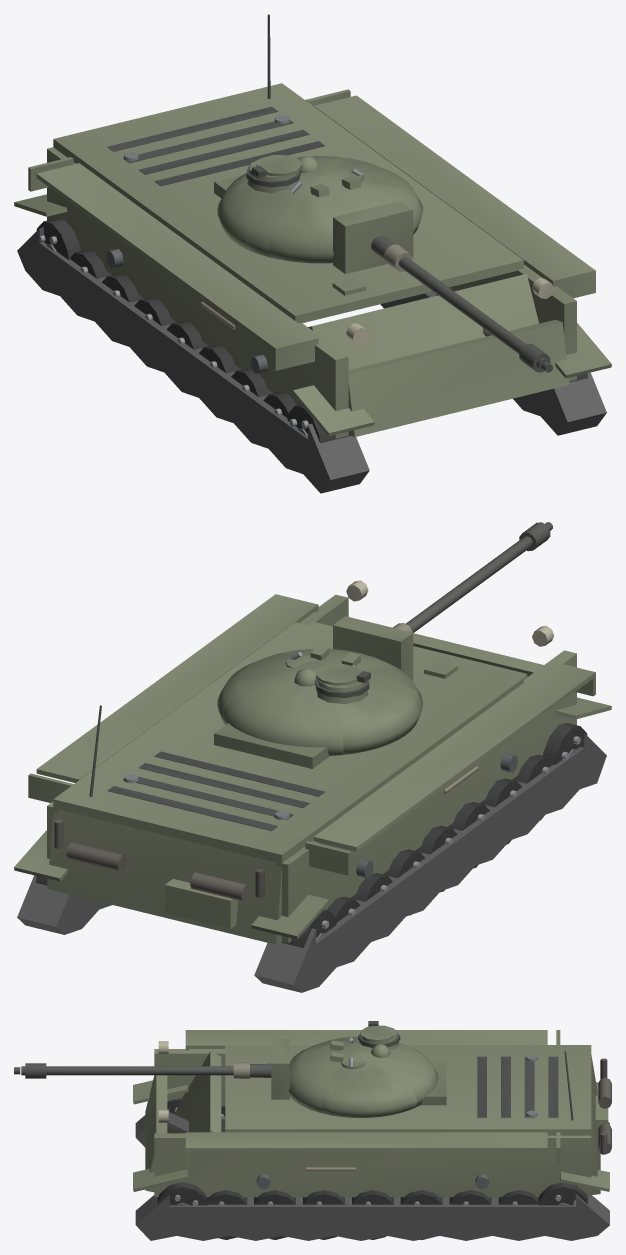
3 renders of one model, top to bottom at view 1: azimuth 30°, elevation 25°; view 2: azimuth 150°, elevation 25°; view 3: azimuth 270°, elevation 25°, orthographic. The views are drawn at different scales.
Visible parts, largest first — view 1: hullSide, hullTop, tracks, lowerPlate, glacis, turretFront, turretSide, mantlet, barrel, turretRoof, wheel8, wheel7 (+7 smaller); view 2: hullTop, hullSide, tracks, hullRear, turretRear, turretSide, mantlet, turretRoof, barrel, lowerPlate, turretFront, glacis (+8 smaller); view 3: hullSide, hullTop, tracks, turretSide, barrel, glacis, turretFront, turretRear, hullRear, turretRoof, lowerPlate, mantlet (+9 smaller).
Part boxes in pixels (x1=…): hullSide: x1=28, y1=89, x2=595, y2=438; hullTop: x1=53, y1=83, x2=523, y2=323; tracks: x1=14, y1=194, x2=611, y2=493; lowerPlate: x1=348, y1=319, x2=569, y2=436; glacis: x1=308, y1=273, x2=538, y2=420; turretFront: x1=268, y1=176, x2=422, y2=263; turretSide: x1=217, y1=157, x2=423, y2=257; mantlet: x1=333, y1=201, x2=413, y2=273; barrel: x1=371, y1=235, x2=552, y2=372; turretRoof: x1=246, y1=155, x2=363, y2=197; wheel8: x1=36, y1=218, x2=80, y2=259; wheel7: x1=287, y1=404, x2=350, y2=443; hullTop: x1=53, y1=622, x2=523, y2=863; hullSide: x1=28, y1=580, x2=595, y2=943; tracks: x1=14, y1=697, x2=611, y2=992; hullRear: x1=47, y1=705, x2=281, y2=944; turretRear: x1=214, y1=669, x2=343, y2=768; turretSide: x1=217, y1=653, x2=423, y2=754; mantlet: x1=333, y1=616, x2=413, y2=680; turretRoof: x1=285, y1=645, x2=370, y2=703; barrel: x1=393, y1=522, x2=552, y2=632; lowerPlate: x1=413, y1=633, x2=543, y2=676; turretFront: x1=280, y1=649, x2=422, y2=702; glacis: x1=309, y1=621, x2=527, y2=679; hullSide: x1=154, y1=1030, x2=591, y2=1197; hullTop: x1=225, y1=1045, x2=591, y2=1135; tracks: x1=133, y1=1080, x2=609, y2=1240; turretSide: x1=321, y1=1037, x2=417, y2=1117; barrel: x1=14, y1=1062, x2=271, y2=1078; glacis: x1=167, y1=1051, x2=256, y2=1133; turretFront: x1=288, y1=1040, x2=359, y2=1113; turretRear: x1=361, y1=1045, x2=446, y2=1107; hullRear: x1=564, y1=1051, x2=611, y2=1195; turretRoof: x1=330, y1=1021, x2=400, y2=1069; lowerPlate: x1=145, y1=1075, x2=167, y2=1192; mantlet: x1=271, y1=1038, x2=289, y2=1099.
Size of the model in its own units: 4.48 by 3.02 by 9.58.
